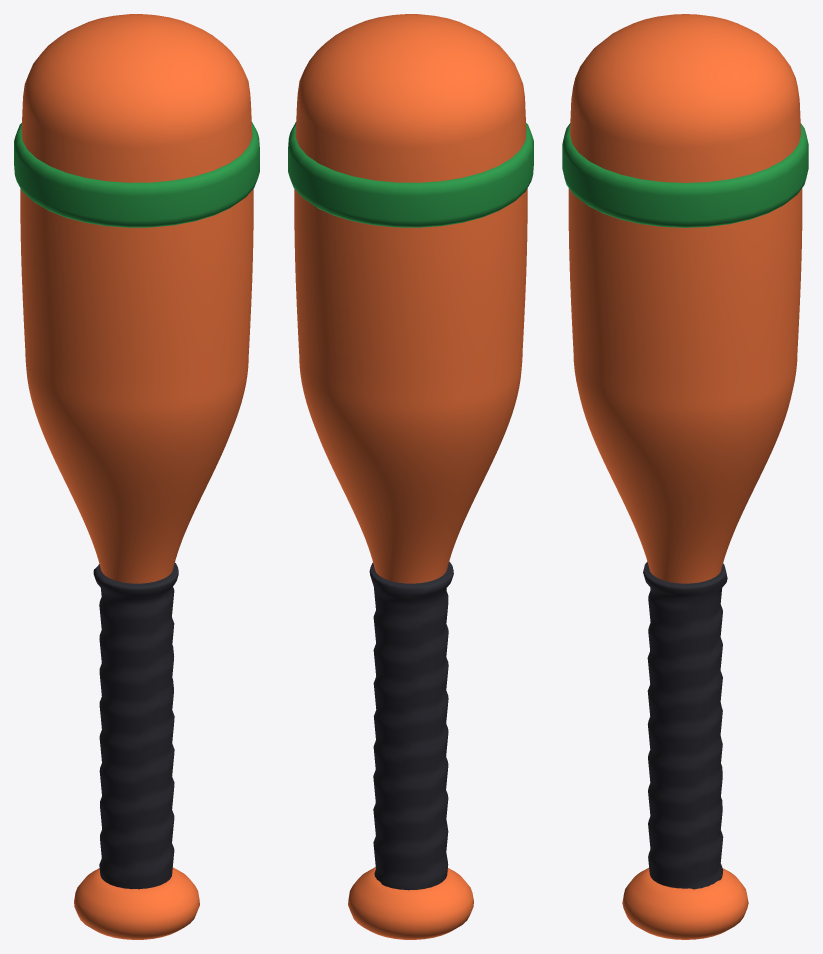
File: StruggleBat.obj
3 views of the same model, side by side, from view 1: azimuth 30°, elevation 25°; view 2: azimuth 150°, elevation 25°; view 3: azimuth 270°, elevation 25° (orthographic).
Visible parts, largest first — view 1: Foam, Grip, Band; view 2: Foam, Grip, Band; view 3: Foam, Grip, Band.
Part boxes in pixels (x1,y1,x2,y2): Foam: [20, 14, 253, 939]; Grip: [93, 563, 178, 889]; Band: [14, 122, 259, 227]; Foam: [294, 14, 527, 939]; Grip: [369, 561, 453, 890]; Band: [288, 122, 533, 227]; Foam: [568, 14, 802, 939]; Grip: [643, 562, 727, 889]; Band: [562, 123, 808, 227].
Bounding box in the file's own units: 1.1 × 4.4 × 1.1.
